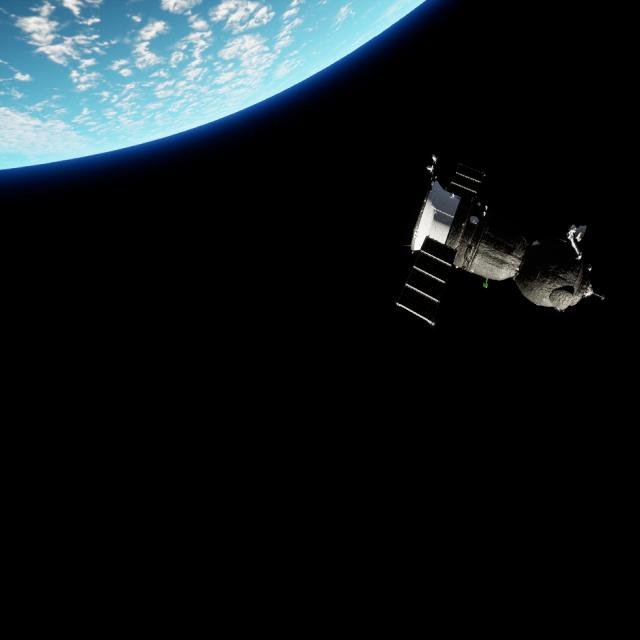Satellites revolving around earth: (393, 149, 605, 331)
